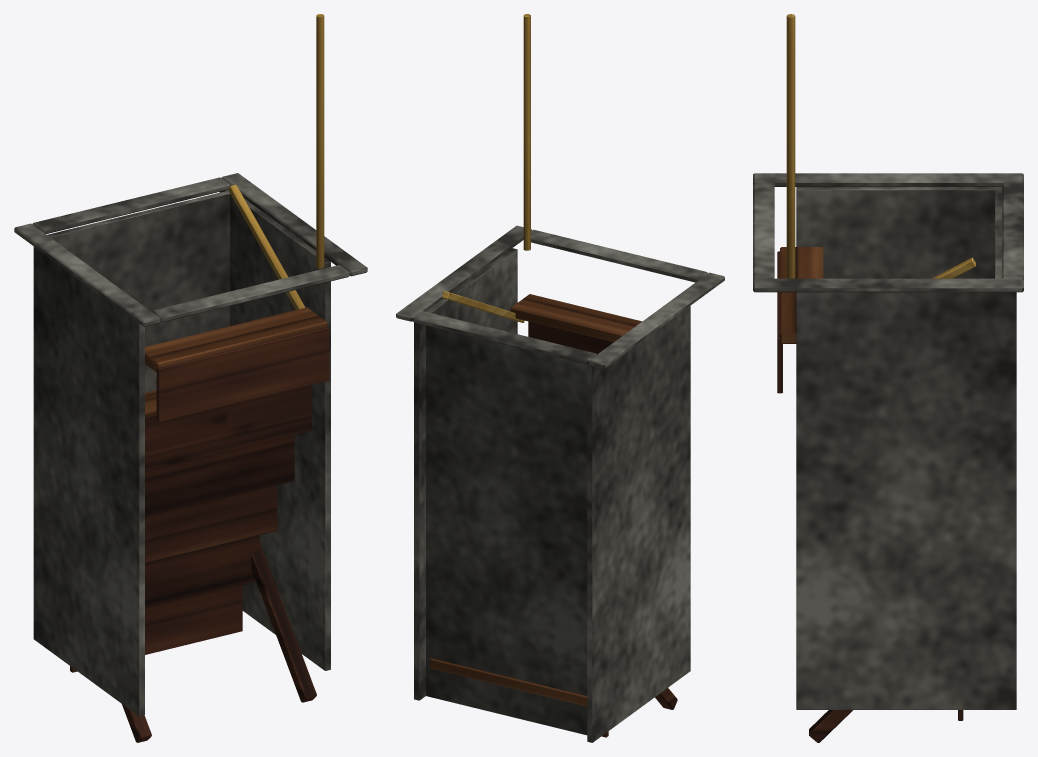
Rendered from stairs_down.glb.
3 renders of one model, left to right at view 1: azimuth 30°, elevation 25°; view 2: azimuth 150°, elevation 25°; view 3: azimuth 270°, elevation 25°, orthographic. The views are drawn at different scales.
Parts seen in each view (by area): view 1: stairs_down; view 2: stairs_down; view 3: stairs_down.
Boxes of the visible parts, <box> form: stairs_down: <box>14,14,367,742</box>; stairs_down: <box>396,14,724,742</box>; stairs_down: <box>753,14,1023,742</box>.
Size of the model in its own units: 0.75 by 2.21 by 0.75.
Materials: 4 (4 with a texture image).
